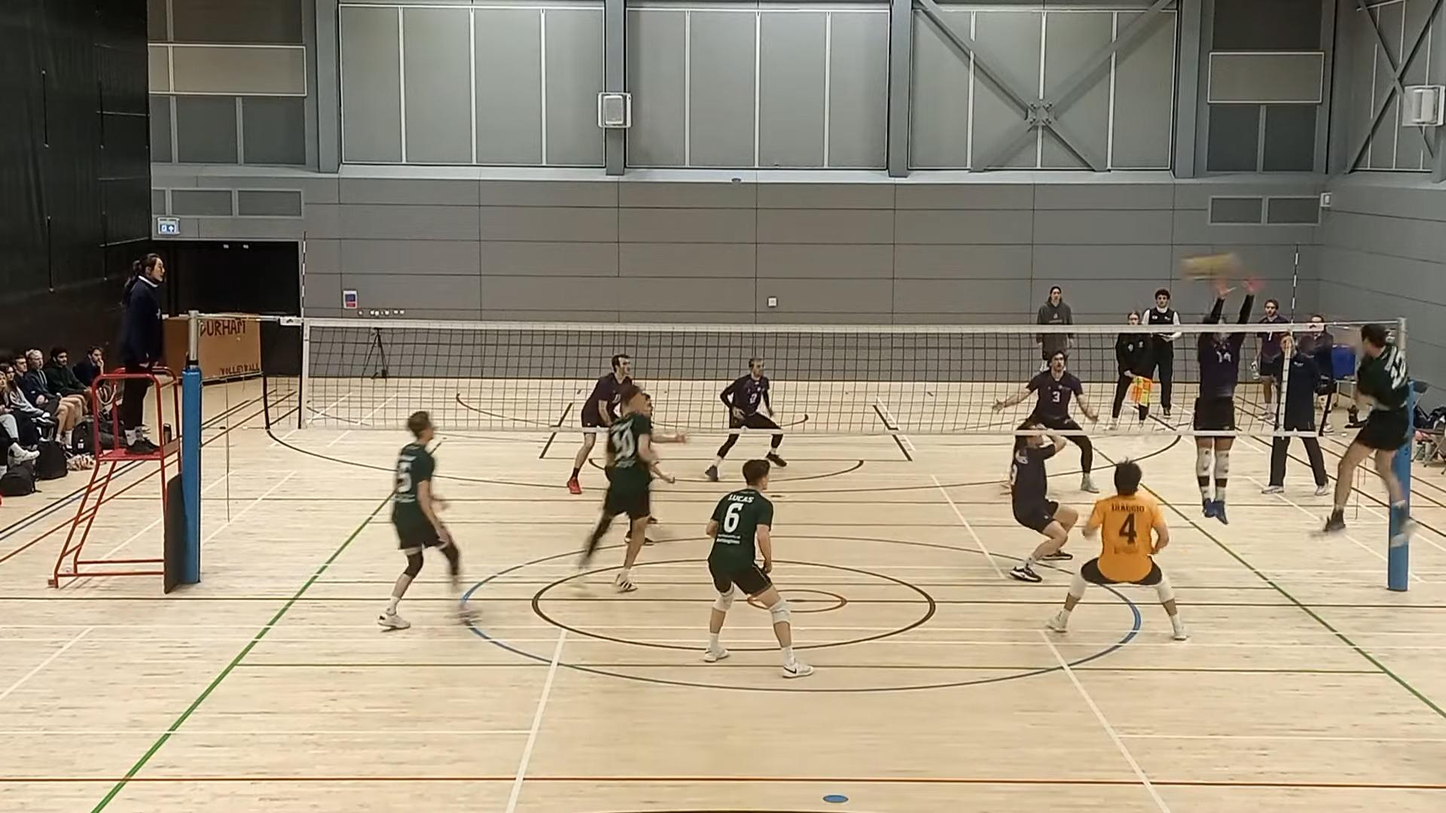attacco: (1307, 313, 1418, 547)
muro: (1181, 281, 1259, 529)
